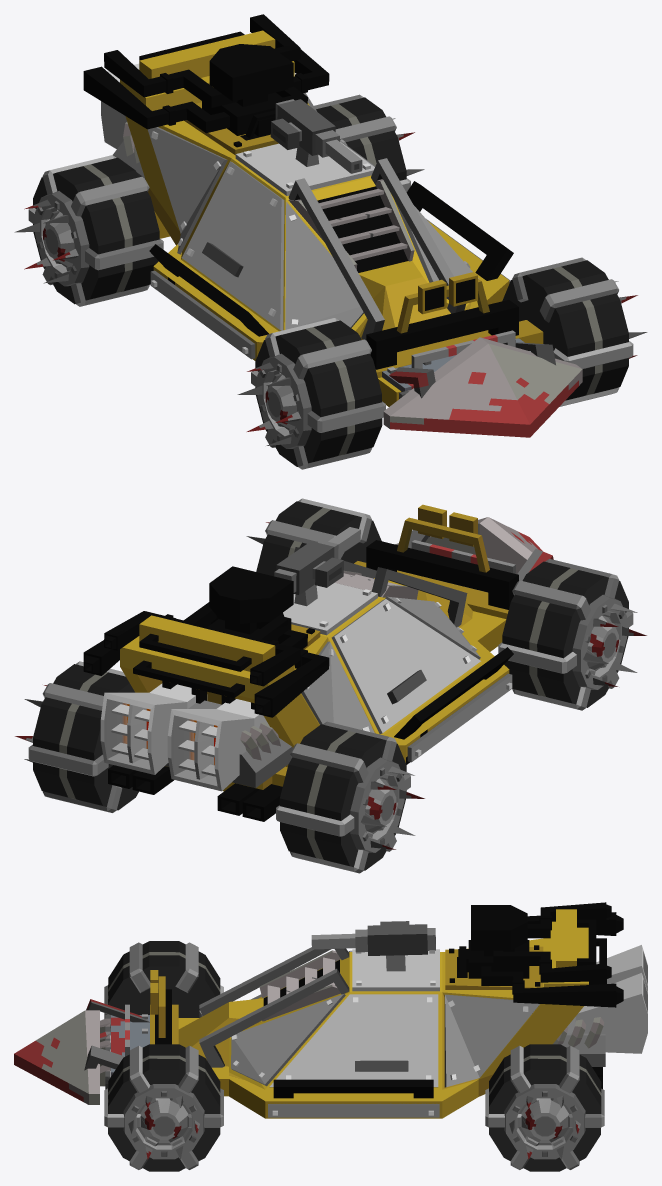
Rendered from 07_SA_Veh_Buggy.glb.
3 renders of one model, top to bottom at view 1: azimuth 30°, elevation 25°; view 2: azimuth 150°, elevation 25°; view 3: azimuth 270°, elevation 25°, orthographic. The views are drawn at different scales.
Parts seen in each view (by area): view 1: Body, armor_5, Wheel_B_3gr (×4), Armor_3_part_A_R, SA_Veh_BuggyA_Wheel_FR, SA_Veh_BuggyA_Wheel_BR, SA_Veh_BuggyA_Wheel_FL, armor_2, Wheel_B_1gr (×2), armor_4_part_B_R 1, armor_4_part_С_R, gun (+7 smaller); view 2: Body, Nitro, Wheel_B_3gr (×4), Armor_3_part_A_R, SA_Veh_BuggyA_Wheel_BR, SA_Veh_BuggyA_Wheel_FR, SA_Veh_BuggyA_Wheel_BL, Wheel_B_1gr (×2), SA_Veh_BuggyA_Wheel_FL, gun, armor_4_part_С_R, armor_5 (+6 smaller); view 3: Body, Armor_3_part_A_L, Wheel_B_1gr (×2), Wheel_B_3gr (×3), armor_2, armor_5, Nitro, SA_Veh_BuggyA_Wheel_FL, SA_Veh_BuggyA_Wheel_BL, armor_4_part_С_L, SA_Veh_BuggyA_Wheel_FR, armor_4_part_B_L 1 (+4 smaller).
Boxes of the visible parts, <box> form: Body: <box>83,14,543,406</box>; armor_5: <box>383,337,582,437</box>; Wheel_B_3gr (×4): <box>28,94,633,469</box>; Armor_3_part_A_R: <box>182,161,284,330</box>; SA_Veh_BuggyA_Wheel_FR: <box>255,320,382,466</box>; SA_Veh_BuggyA_Wheel_BR: <box>33,157,159,304</box>; SA_Veh_BuggyA_Wheel_FL: <box>502,260,628,400</box>; armor_2: <box>288,158,465,339</box>; Wheel_B_1gr (×2): <box>35,191,311,448</box>; armor_4_part_B_R 1: <box>285,202,363,329</box>; armor_4_part_С_R: <box>147,127,227,254</box>; gun: <box>270,99,362,173</box>; Body: <box>83,504,518,821</box>; Nitro: <box>100,683,292,791</box>; Wheel_B_3gr (×4): <box>28,498,633,873</box>; Armor_3_part_A_R: <box>331,599,480,733</box>; SA_Veh_BuggyA_Wheel_BR: <box>279,724,406,870</box>; SA_Veh_BuggyA_Wheel_FR: <box>502,561,628,707</box>; SA_Veh_BuggyA_Wheel_BL: <box>33,664,138,810</box>; Wheel_B_1gr (×2): <box>350,594,626,852</box>; SA_Veh_BuggyA_Wheel_FL: <box>256,501,381,576</box>; gun: <box>274,527,360,606</box>; armor_4_part_С_R: <box>301,641,374,733</box>; armor_5: <box>395,517,553,580</box>; Body: <box>150,902,623,1118</box>; Armor_3_part_A_L: <box>269,994,438,1087</box>; Wheel_B_1gr (×2): <box>123,1084,585,1159</box>; Wheel_B_3gr (×3): <box>104,942,604,1169</box>; armor_2: <box>199,947,349,1067</box>; armor_5: <box>14,999,149,1104</box>; Nitro: <box>553,945,647,1066</box>; SA_Veh_BuggyA_Wheel_FL: <box>108,1044,220,1171</box>; SA_Veh_BuggyA_Wheel_BL: <box>489,1044,601,1171</box>; armor_4_part_С_L: <box>444,994,539,1087</box>; SA_Veh_BuggyA_Wheel_FR: <box>108,941,220,1027</box>; armor_4_part_B_L 1: <box>231,994,345,1086</box>.
Size of what is drawn, in the model's own units: 4.74 by 2.68 by 8.14.
Materials: 1 (1 with a texture image).
